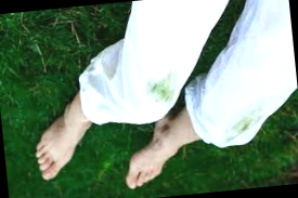earth: (151, 81, 173, 102), (232, 118, 252, 136)
